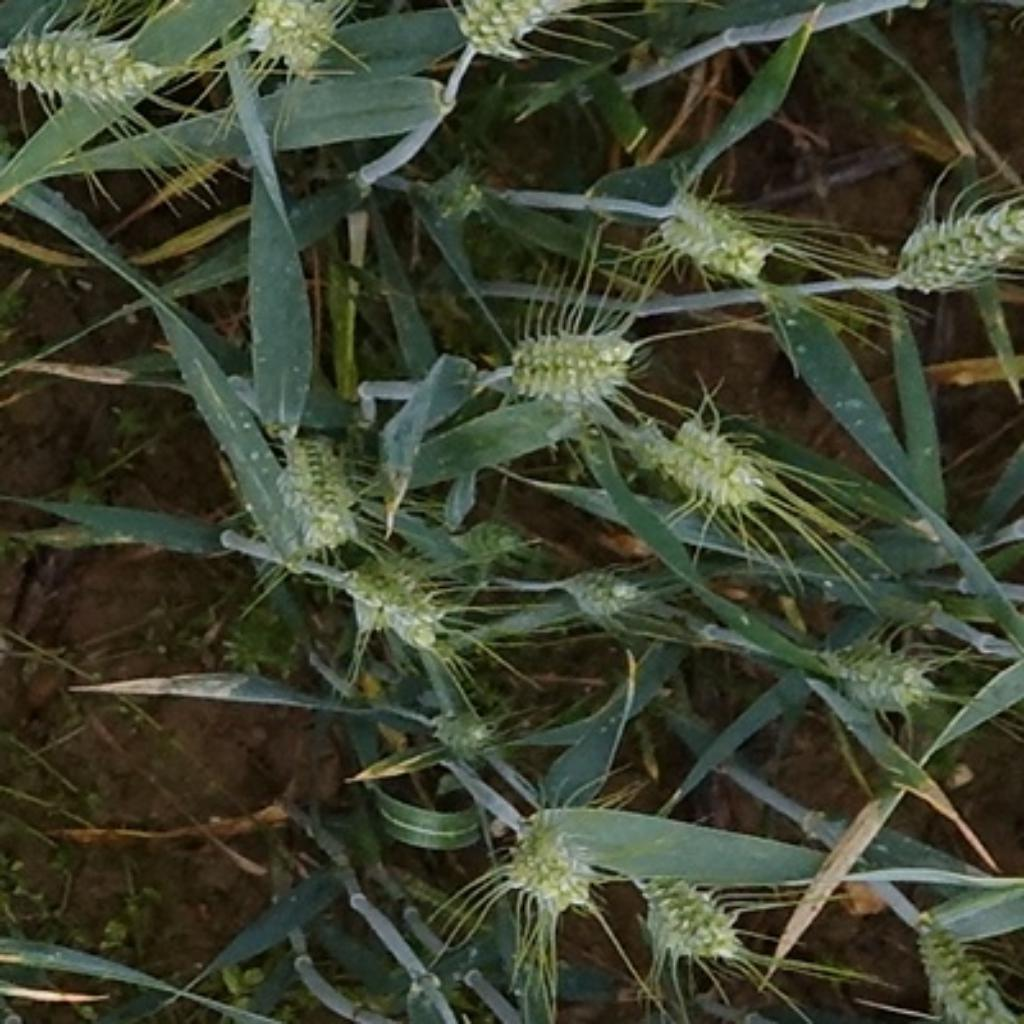0-0: (3, 12, 161, 114), (492, 314, 643, 419), (627, 401, 773, 509), (885, 187, 1024, 297), (648, 181, 778, 286), (908, 901, 1020, 1022), (342, 548, 457, 658), (493, 813, 603, 925), (627, 872, 747, 972), (272, 419, 366, 544), (820, 632, 943, 719), (442, 0, 593, 56), (550, 555, 657, 622), (238, 0, 345, 66), (419, 154, 501, 236), (442, 506, 527, 563), (422, 698, 496, 762)
